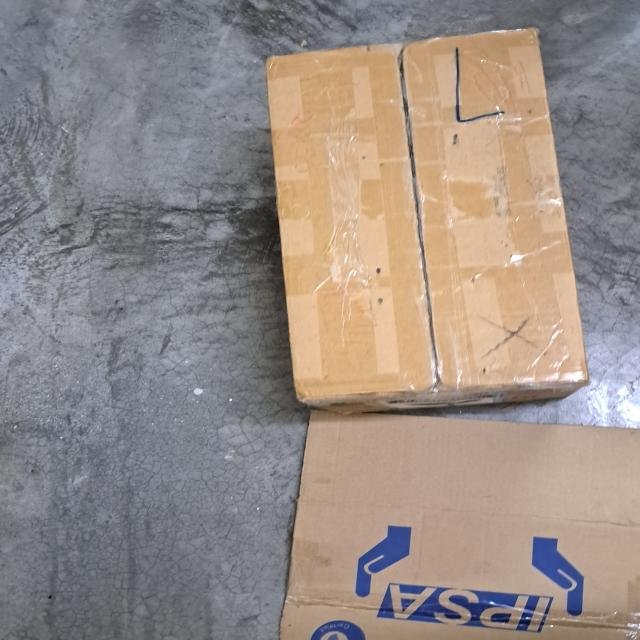cardboard: (261, 30, 591, 412), (275, 412, 639, 640)
